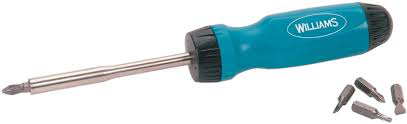screwdriver: (6, 6, 407, 98)
